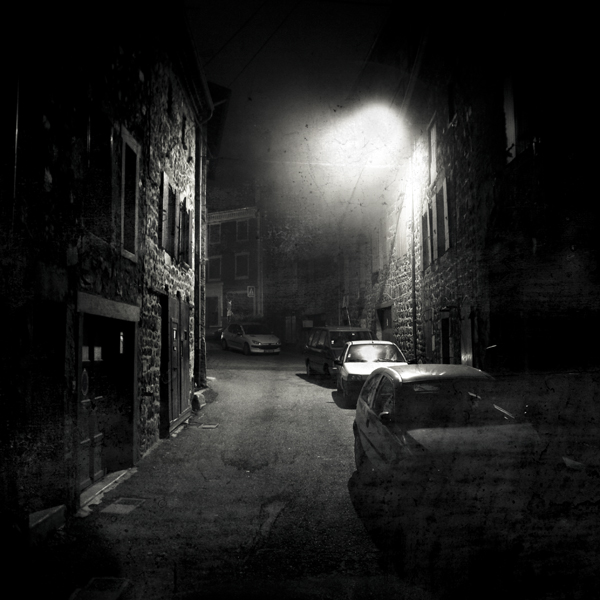car: (217, 320, 285, 361)
